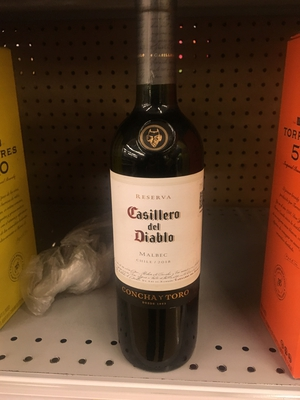casillero del diablo malbec: (94, 2, 223, 359)
